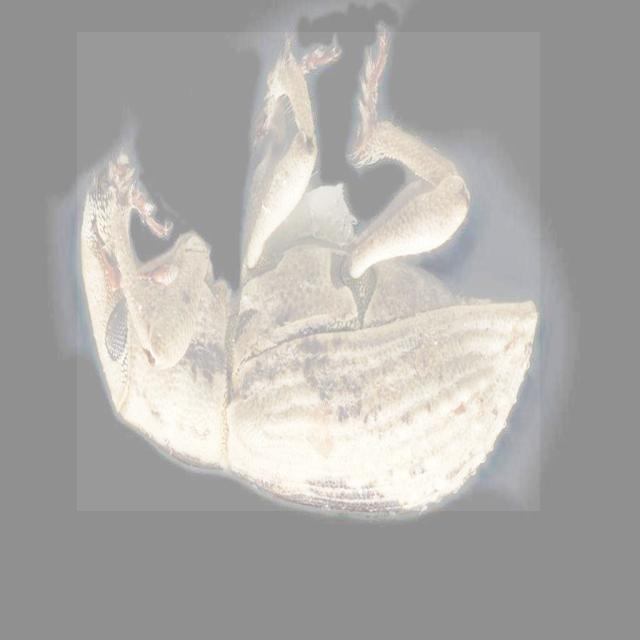rice-bug: (77, 32, 540, 511)
